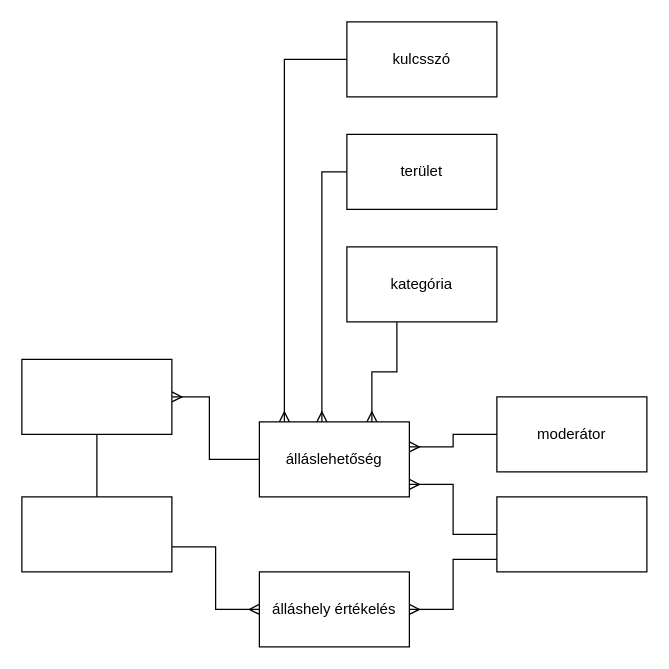
This 669x669 diagram has some shape labels left out. Here are the shapes that lost their labels. From the top down, the box of each, then its label:
(21, 358, 172, 434): jelentkező
(21, 496, 172, 572): álláskereső
(496, 496, 647, 572): cég
